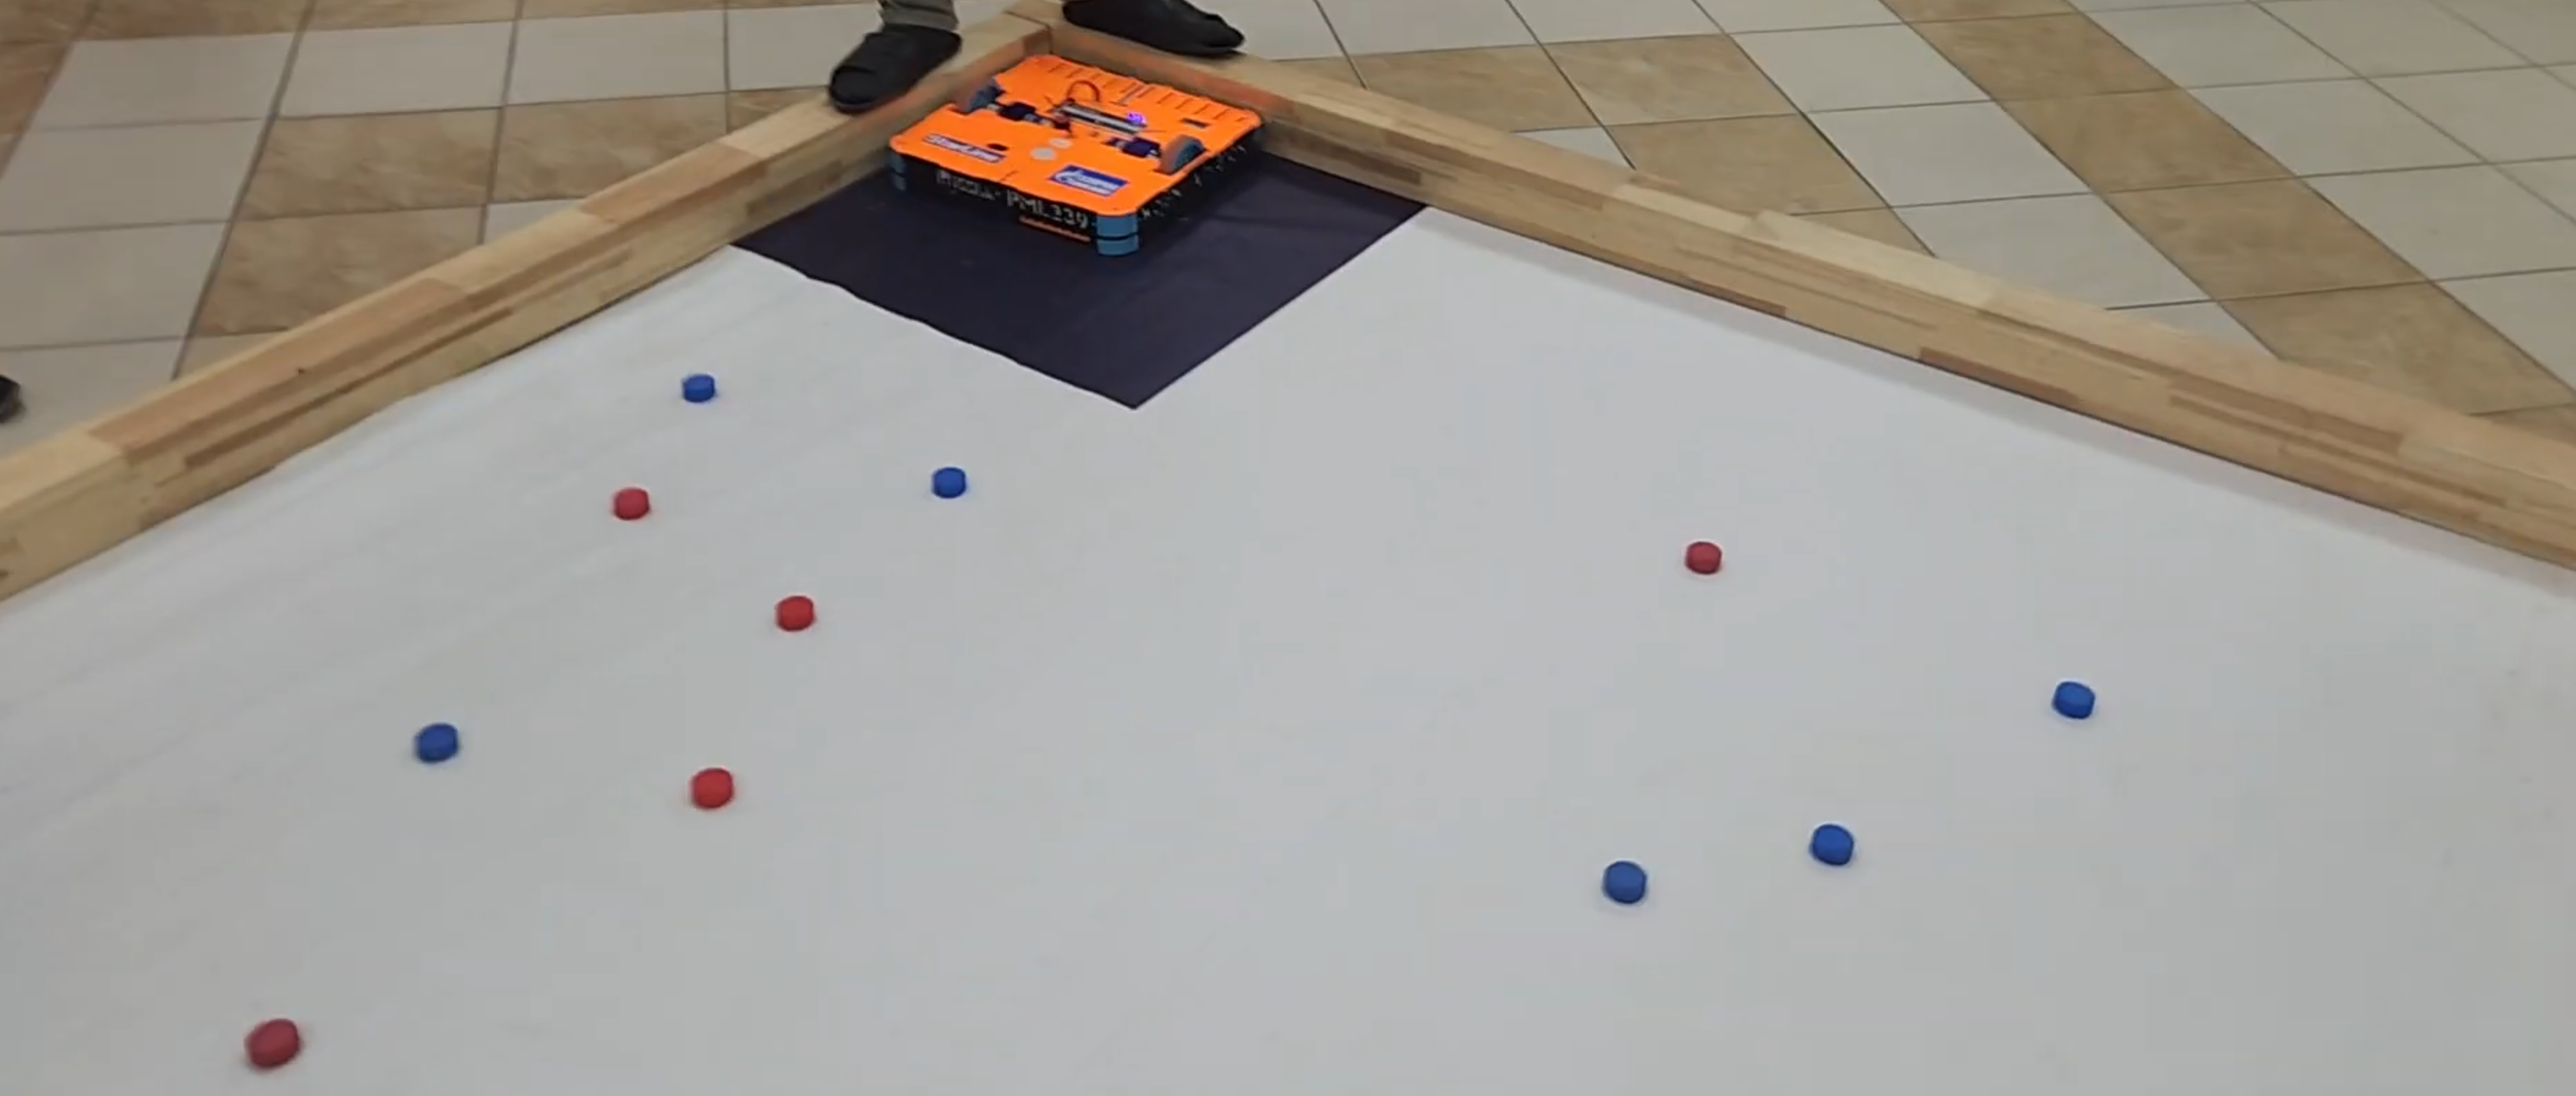blue_puck: (1809, 822, 1858, 866), (1600, 858, 1644, 905), (2054, 679, 2096, 720), (414, 723, 457, 762), (930, 467, 966, 500), (680, 373, 713, 404)
red_puck: (241, 1019, 301, 1078), (690, 767, 733, 808), (772, 596, 818, 633), (606, 488, 649, 518), (1684, 539, 1717, 575)
